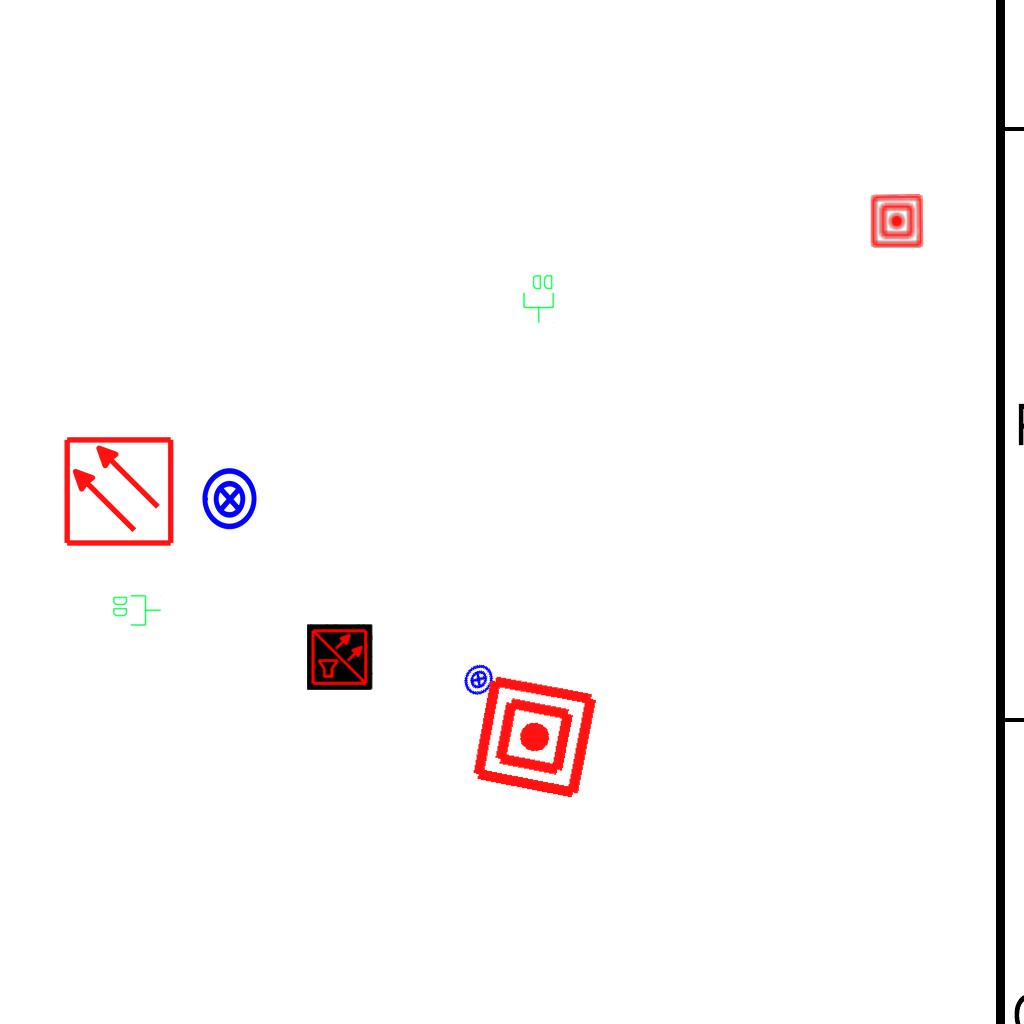Datenanschluss_zweifach: (111, 593, 162, 627), (522, 273, 556, 324)
NAM-Nichtautomatischer_Melder: (468, 670, 601, 803), (869, 193, 925, 249)
OKW_Multisensormelder_(Kombination_optischer_Rauch-Kahlenmonoxid_Waerme-Melder): (307, 624, 373, 690)
RMO_Rauchmelder_optischer: (62, 435, 175, 548)
Taster_beleuchtet: (197, 466, 263, 532), (455, 656, 502, 703)
